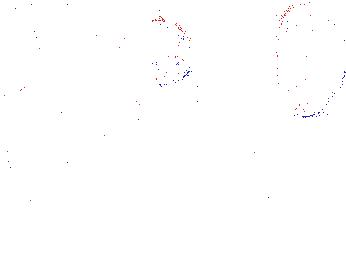moon jellyfish: (275, 3, 346, 118), (114, 18, 197, 84), (15, 1, 133, 42), (1, 5, 39, 96)
